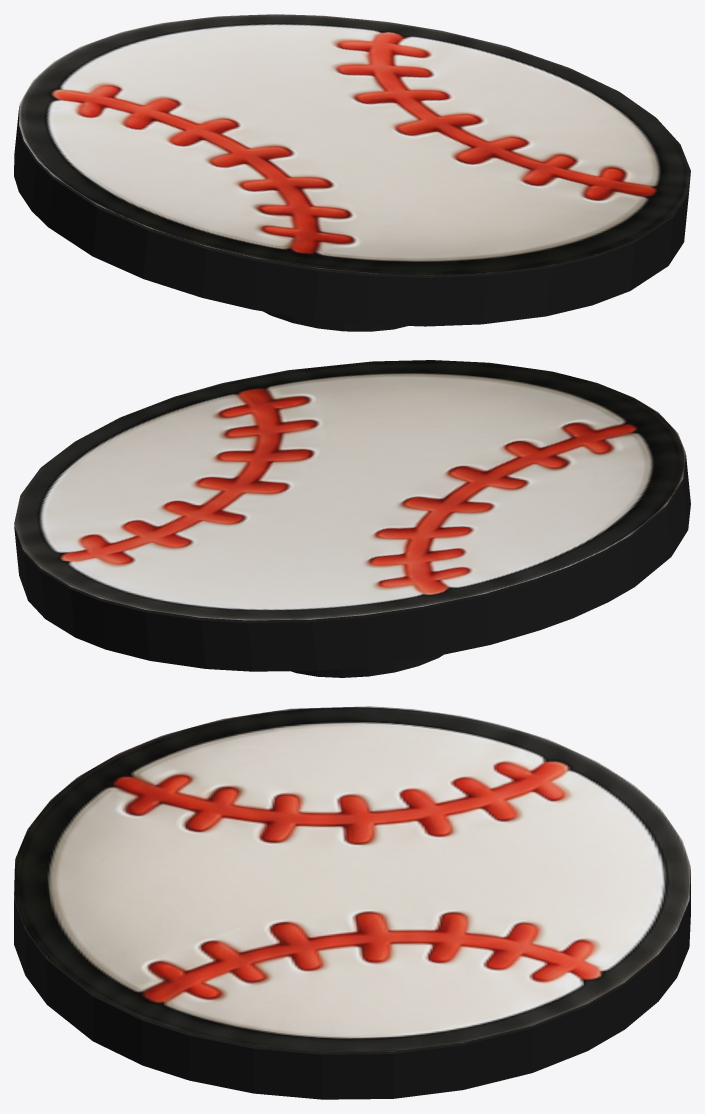
File: sports-baseball.glb
3 renders of one model, top to bottom at view 1: azimuth 30°, elevation 25°; view 2: azimuth 150°, elevation 25°; view 3: azimuth 270°, elevation 25°, orthographic.
Visible parts, largest first — view 1: SPORTS_Baseball_MODEL; view 2: SPORTS_Baseball_MODEL; view 3: SPORTS_Baseball_MODEL.
Part boxes in pixels (<box>): SPORTS_Baseball_MODEL: <box>14,14,690,331</box>; SPORTS_Baseball_MODEL: <box>14,360,690,677</box>; SPORTS_Baseball_MODEL: <box>14,706,690,1099</box>.
Bounding box in the file's own units: 0.3268 × 0.1 × 0.3292.
Materials: 3 (1 with a texture image).
